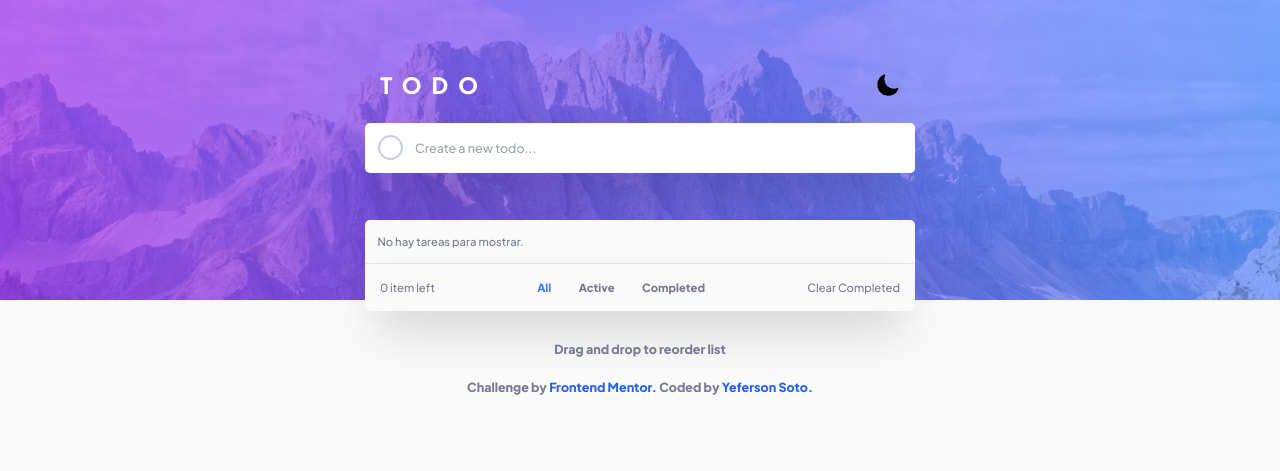
App › revierte el cambio optimista y avisa cuando no se puede guardar
Expected: the list item "No hay tareas para mostrar." is shown, [365,220,915,264]
In the field with placeholder "Create a new todo...": (665, 148) [415,122,915,172], type "Tarea que no se guarda"
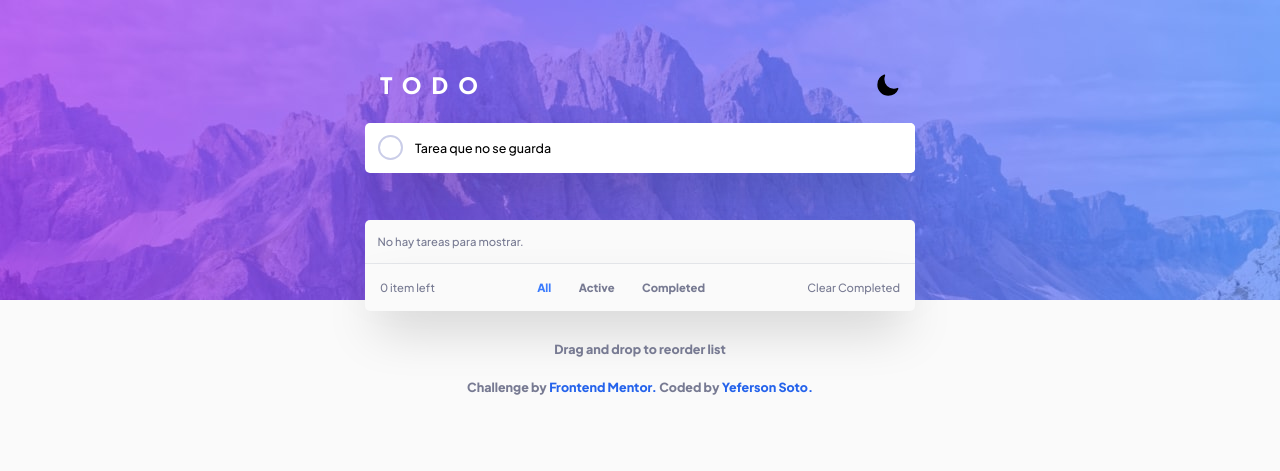
Submit the form with placeholder "Create a new todo...", box [365,122,915,202]
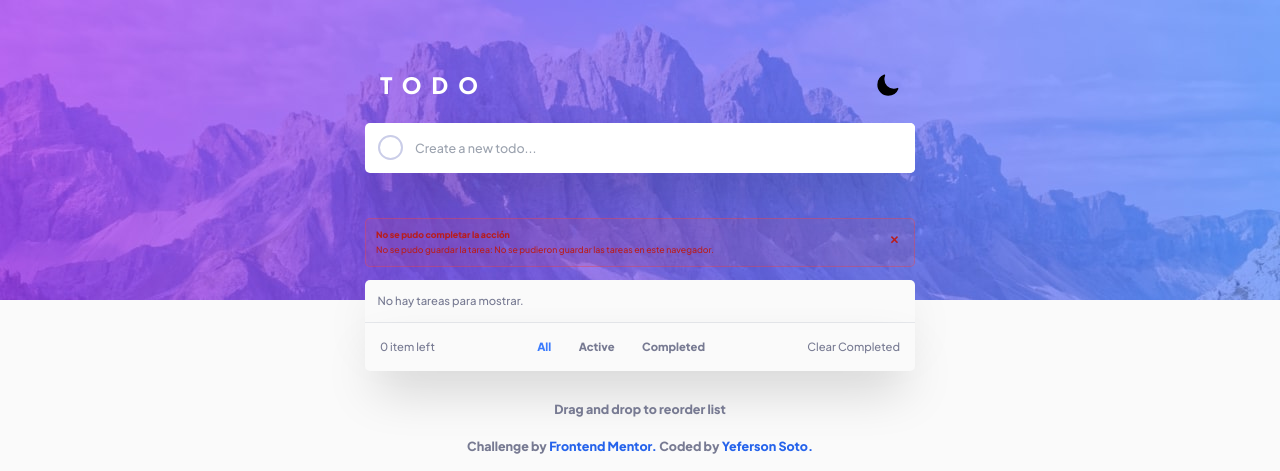
Expected: the text "Tarea que no se guarda" is not shown
Result: the text "No se pudo guardar la tarea" is shown at [376,244,714,254]
